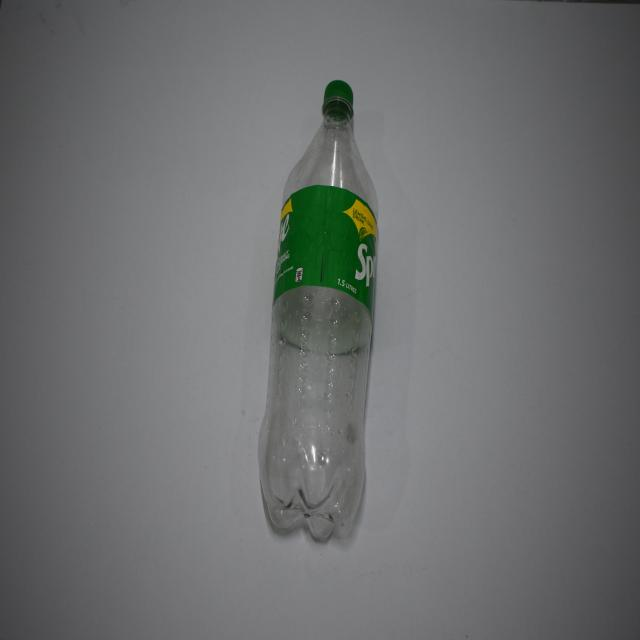bottle: (257, 76, 379, 550)
